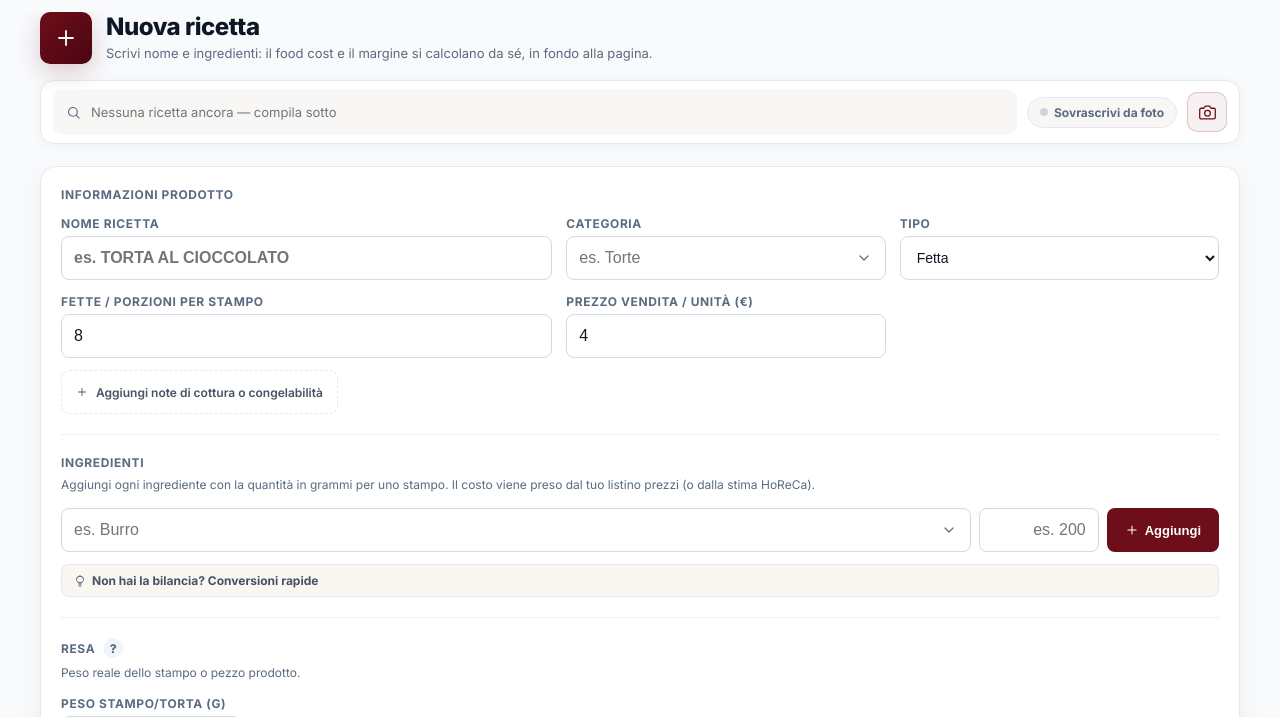
Scenario: Nuovo gusto - note di cottura: apre e chiude › aria-expanded segue lo stato, in tutti e due i versi
The image size is (1280, 717).
Click the button "Aggiungi note di cottura o congelabilità" at (199, 392), box [61,370,338,414]
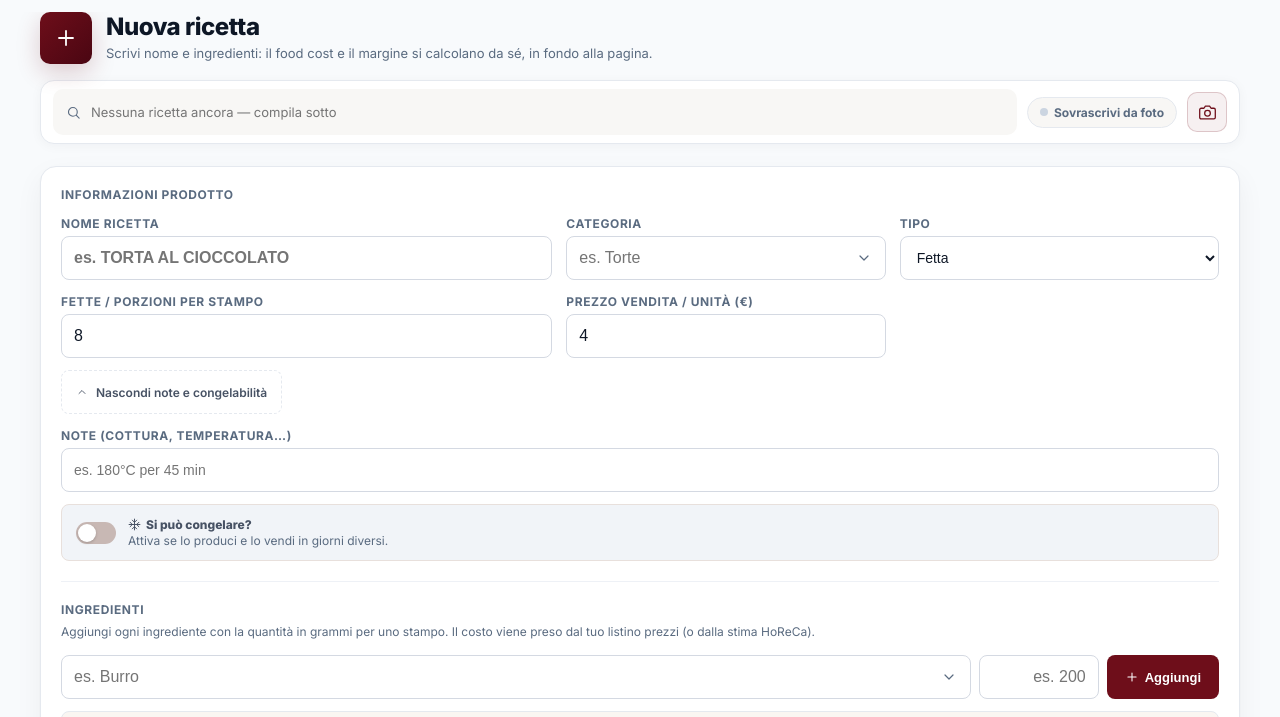
Result: the button "Nascondi note e congelabilità" is expanded
Click the button "Nascondi note e congelabilità" at (172, 392), box [61,370,282,414]
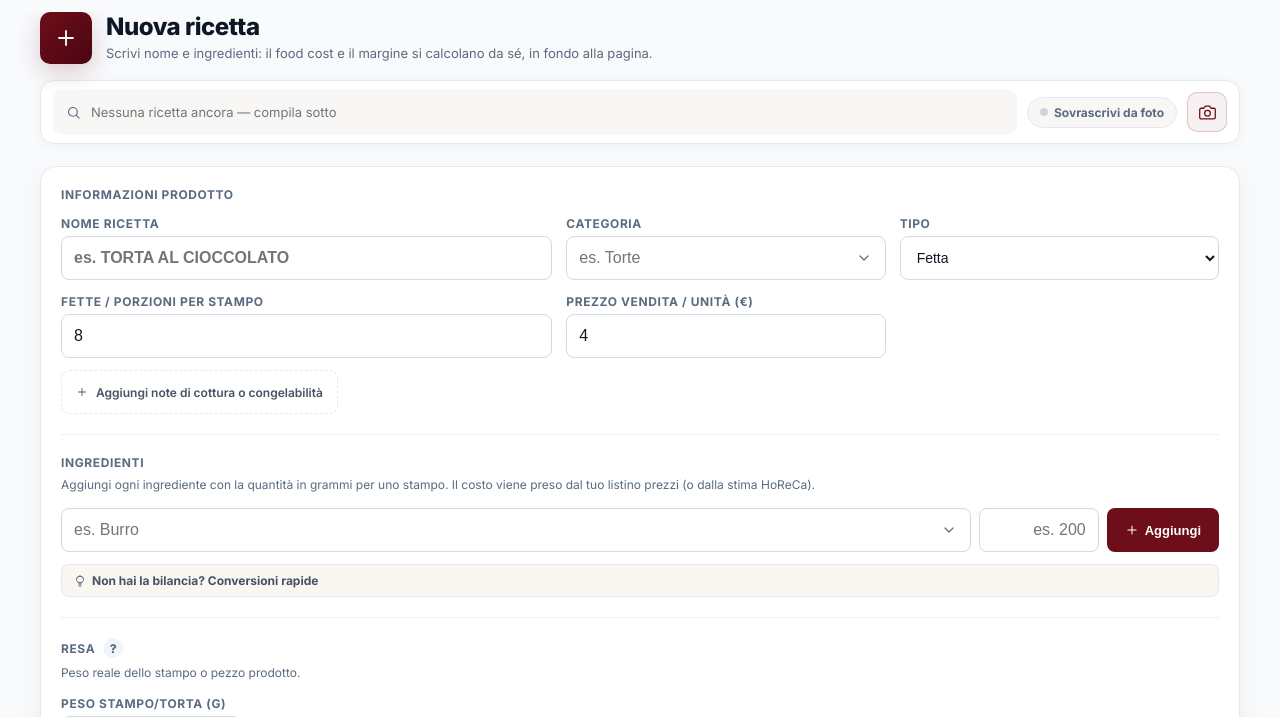
Result: the button "Aggiungi note di cottura o congelabilità" is collapsed at [61,370,338,414]
